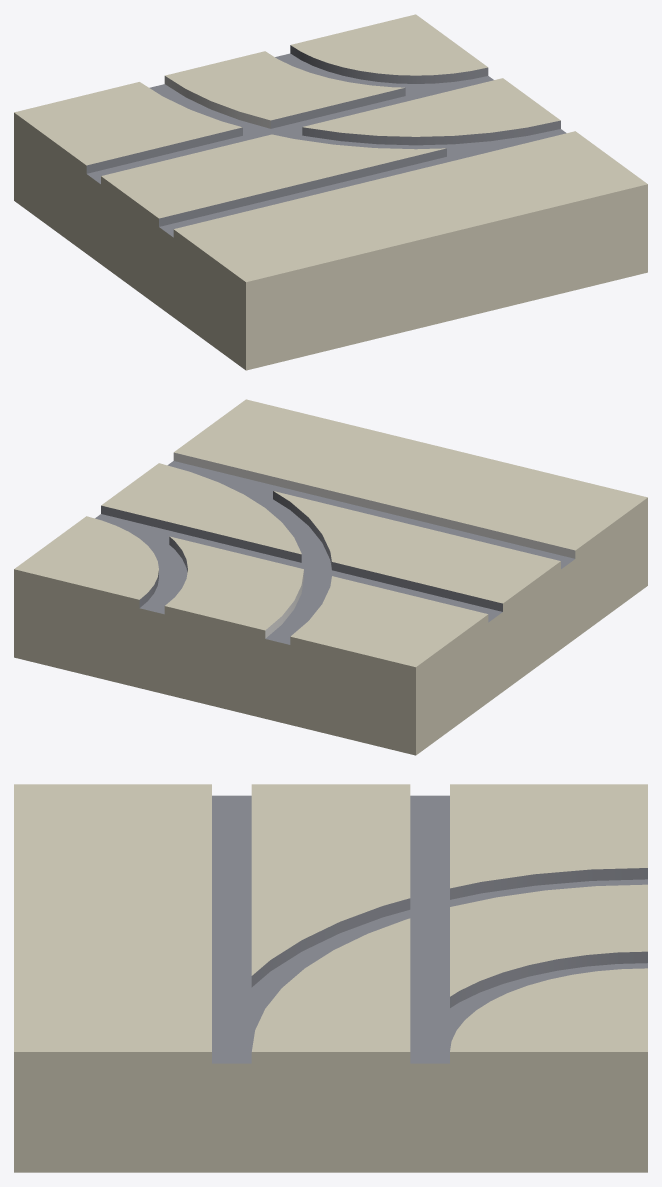
File: roadTile_093.fbx
3 views of the same model, one above another, from view 1: azimuth 30°, elevation 25°; view 2: azimuth 150°, elevation 25°; view 3: azimuth 270°, elevation 25° (orthographic). The views are drawn at different scales.
Parts seen in each view (by area): view 1: roadTile_093; view 2: roadTile_093; view 3: roadTile_093.
Part boxes in pixels (bbox=[...]): roadTile_093: bbox=[14, 14, 647, 370]; roadTile_093: bbox=[14, 399, 647, 755]; roadTile_093: bbox=[14, 784, 647, 1172].
Bounding box in the file's own units: 118 × 24.8 × 118.
